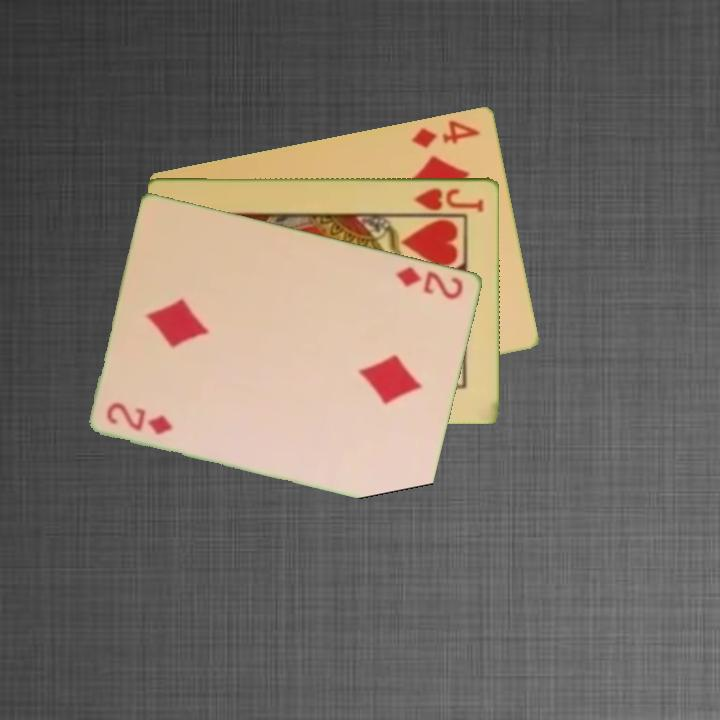2d: (393, 263, 467, 302), (103, 399, 177, 438)
4d: (408, 116, 484, 151)
Jh: (411, 184, 487, 214)
